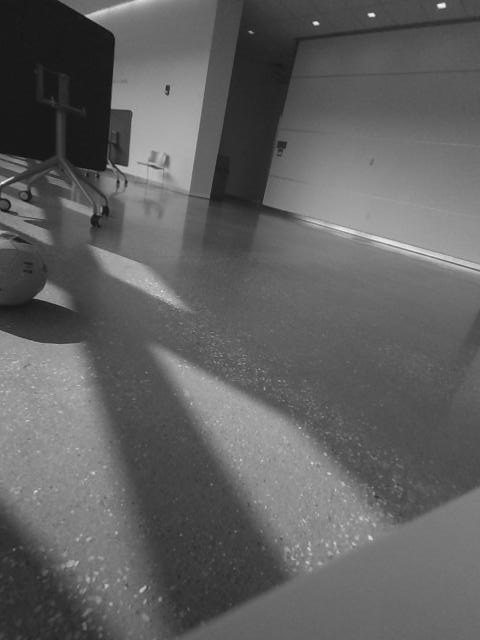ball: (1, 230, 50, 315)
